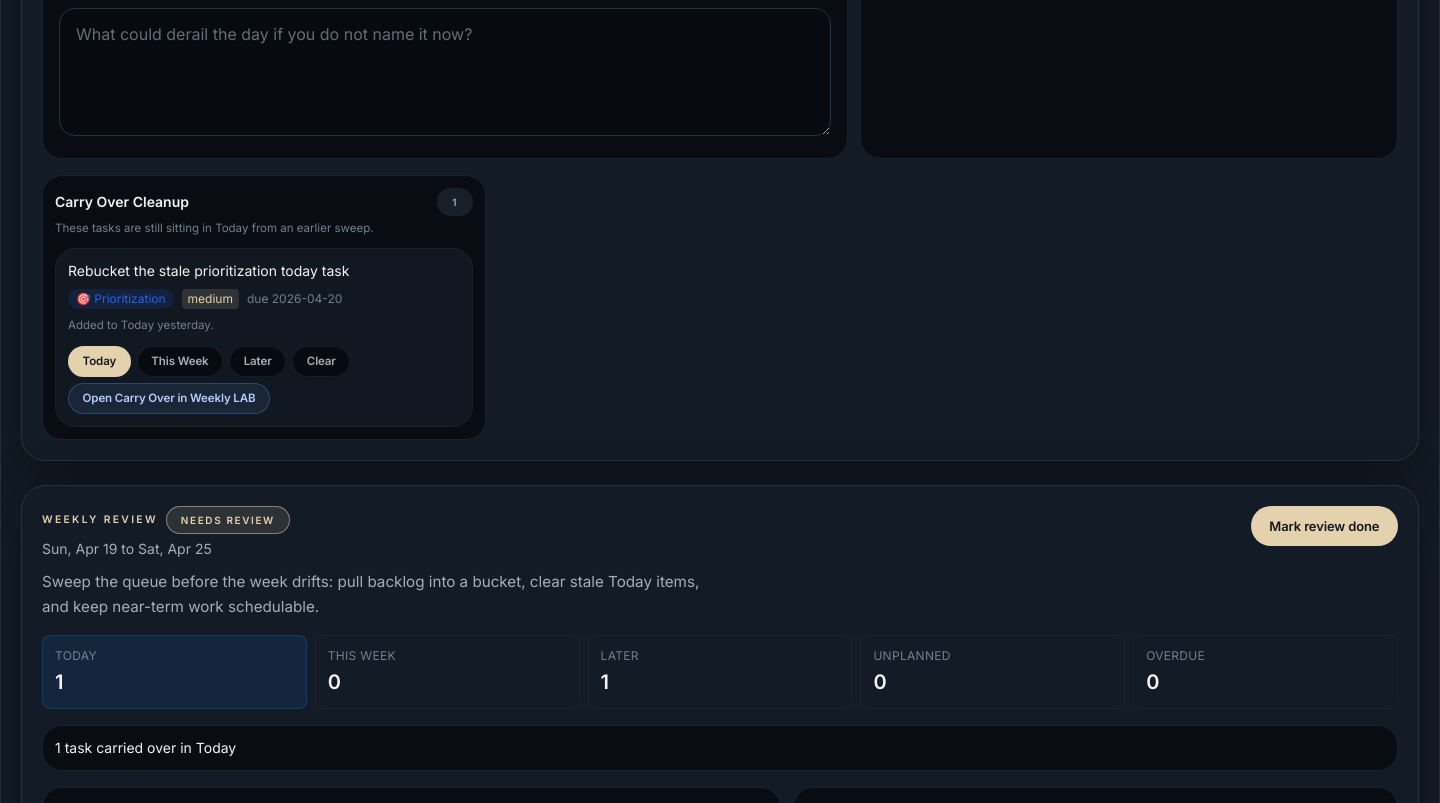
Test: TaskDashboard › opens an advisor-scoped planner lane from a daily planning action card
(page scrolled)
Click the button "Open Carry Over in Weekly LAB" at (169, 399), box [68,383,270,414]
(page scrolled)
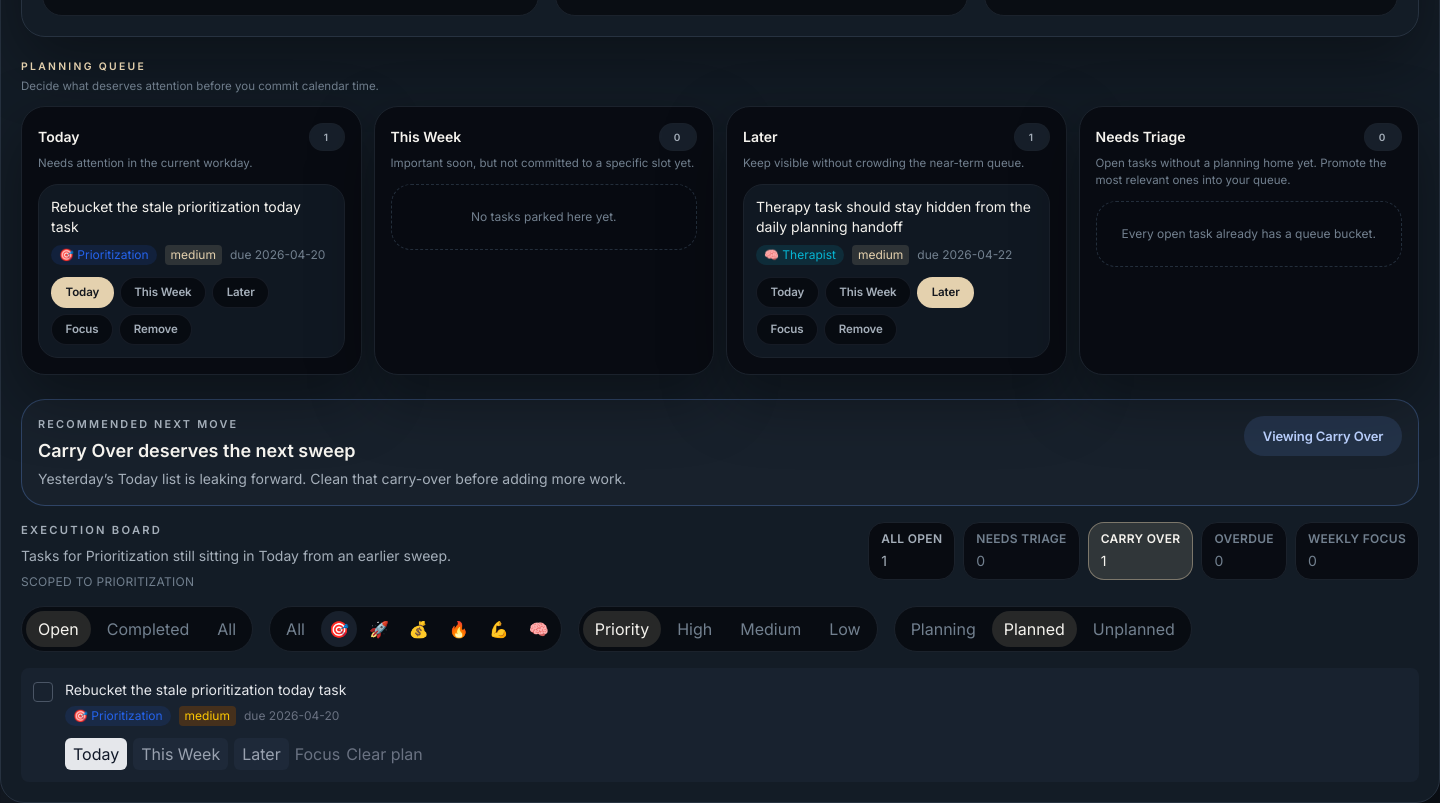
Expected: the text "Rebucket the stale prioritization today task" below "Scoped to" is shown, [65,681,346,698]
Expected: the text "Scoped to Prioritization" is shown, [21,574,194,589]
Expected: the button "Viewing Carry Over" is shown, [1244,416,1402,456]
